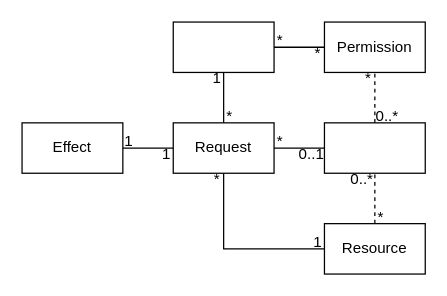
Some shapes in this 447 by 296 pixel diagram are drawn without their labels. The shapes that lost their labels are listed below. From the top down, each one's centre as x and y in pixels, then its label:
the point at 223,46: Role
the point at 374,147: Scope
